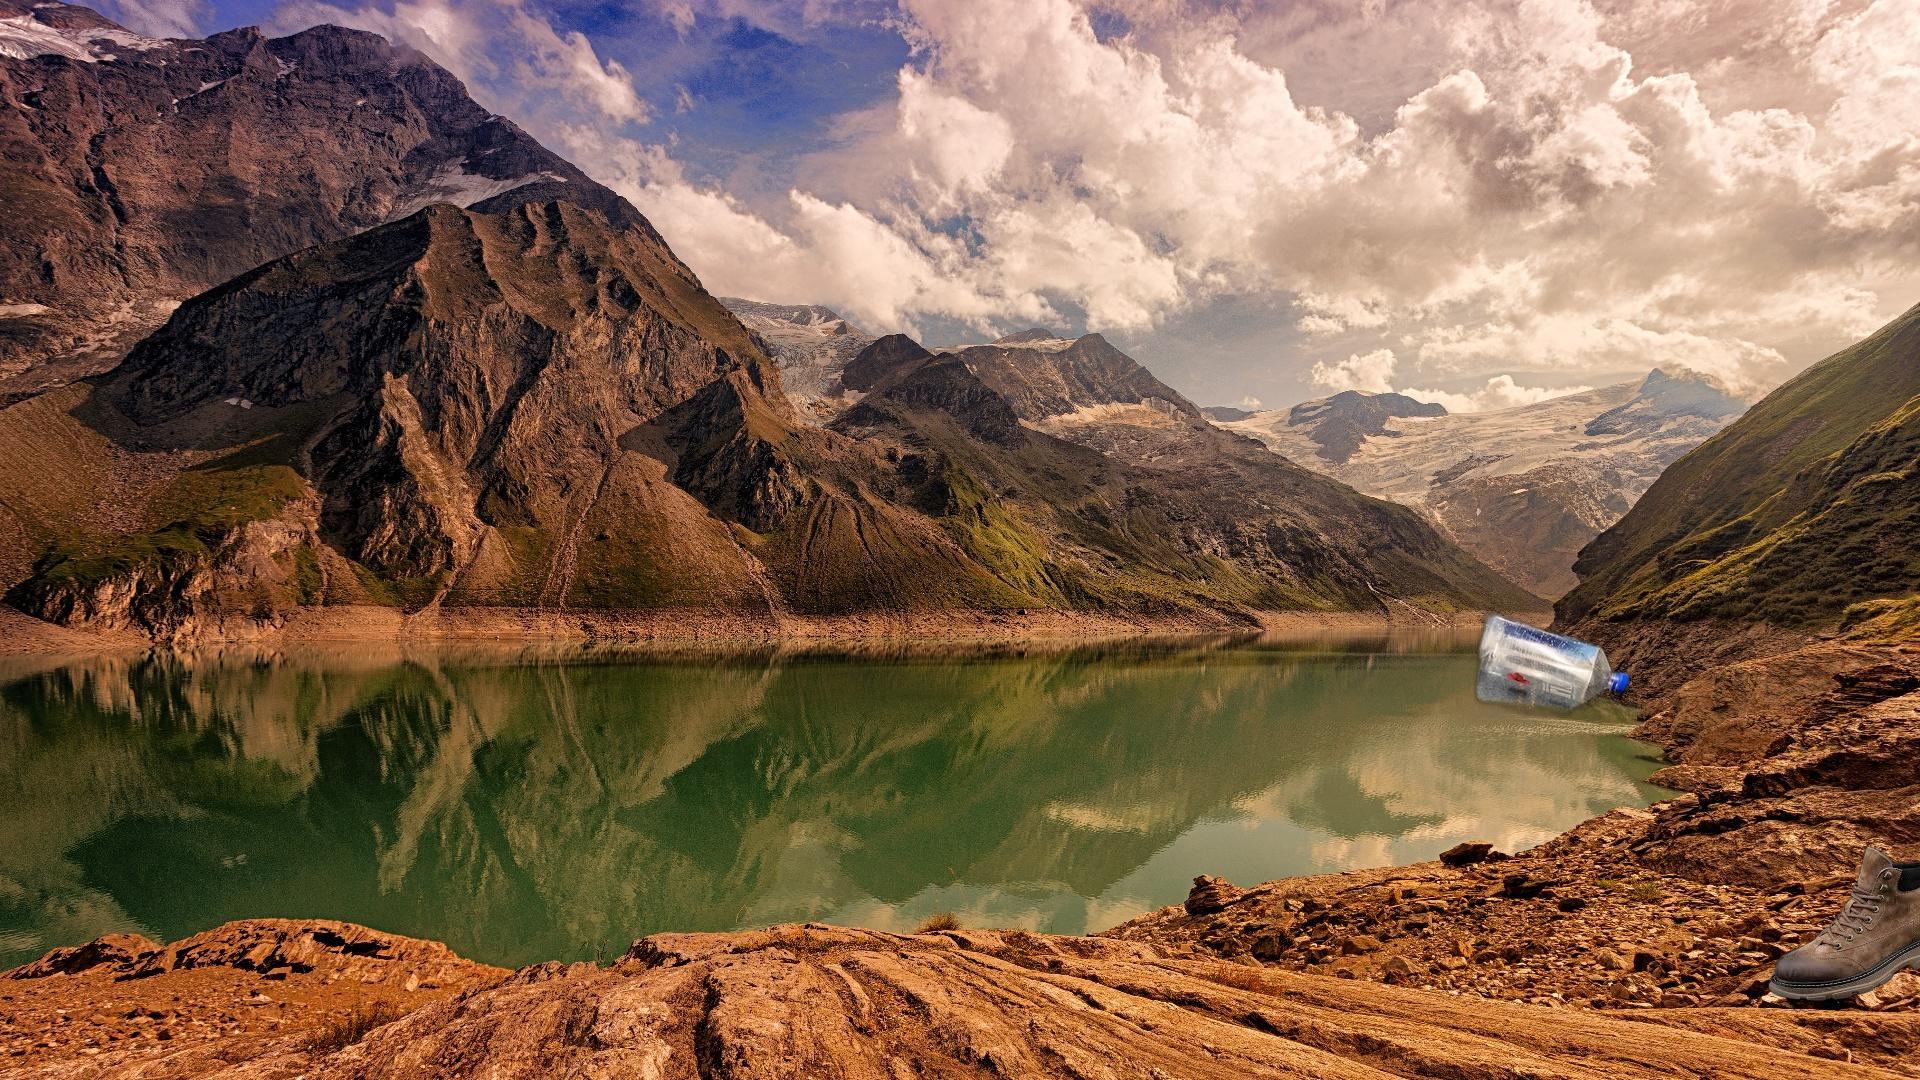plastic-bottles: (1470, 601, 1634, 723)
shoes: (1766, 840, 1920, 1004)
